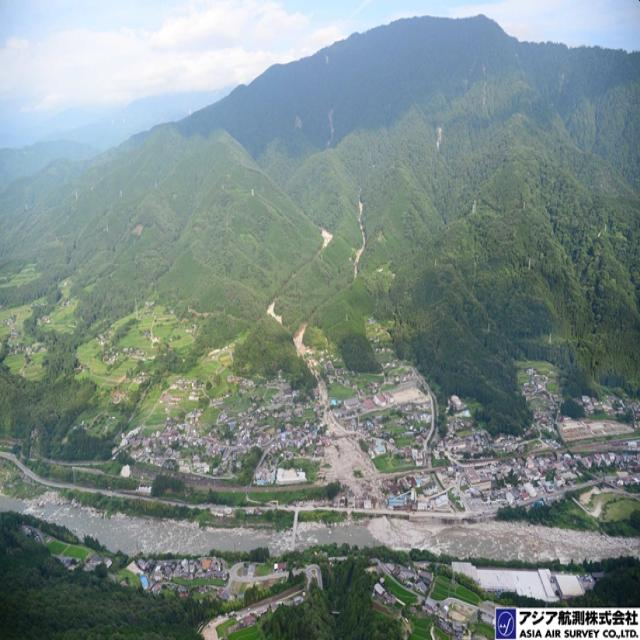Debris-flow: (354, 194, 366, 277), (294, 321, 306, 354), (320, 227, 332, 251), (269, 301, 282, 322)
